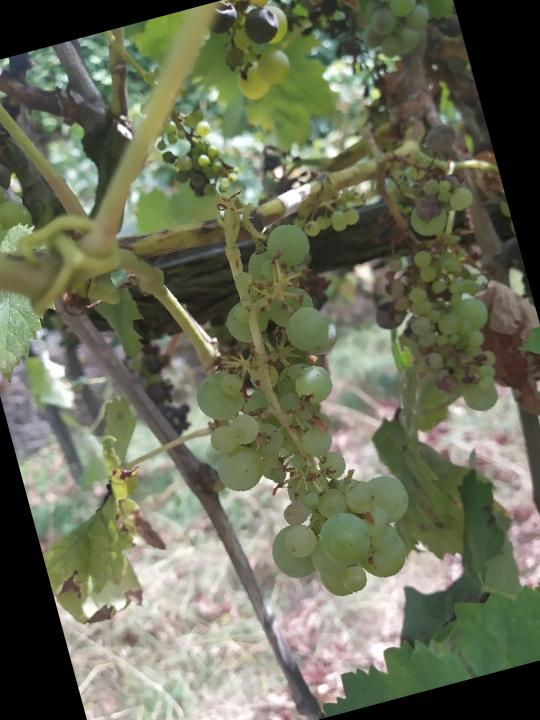grape: (155, 208, 433, 624)
